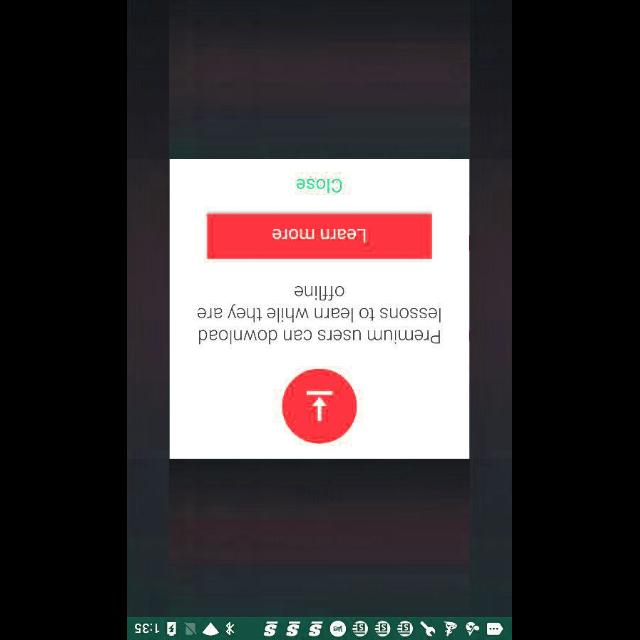icon: (283, 369, 357, 443)
panel: (170, 159, 470, 459)
text: (198, 286, 442, 344), (297, 179, 343, 193)
textbutton: (208, 214, 432, 258)
uppertaskbar: (128, 617, 512, 639)
